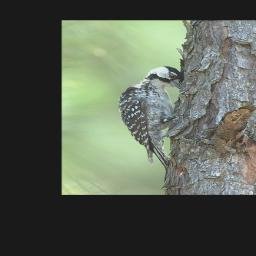Woodpecker: (116, 66, 183, 169)
